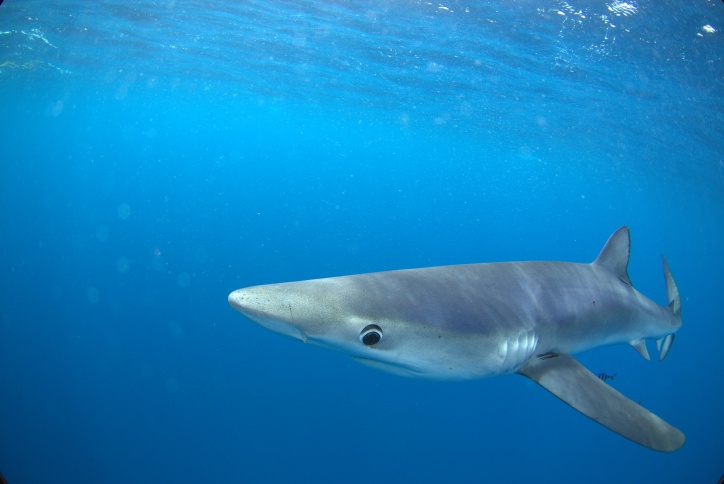Azul: (229, 198, 718, 461)
